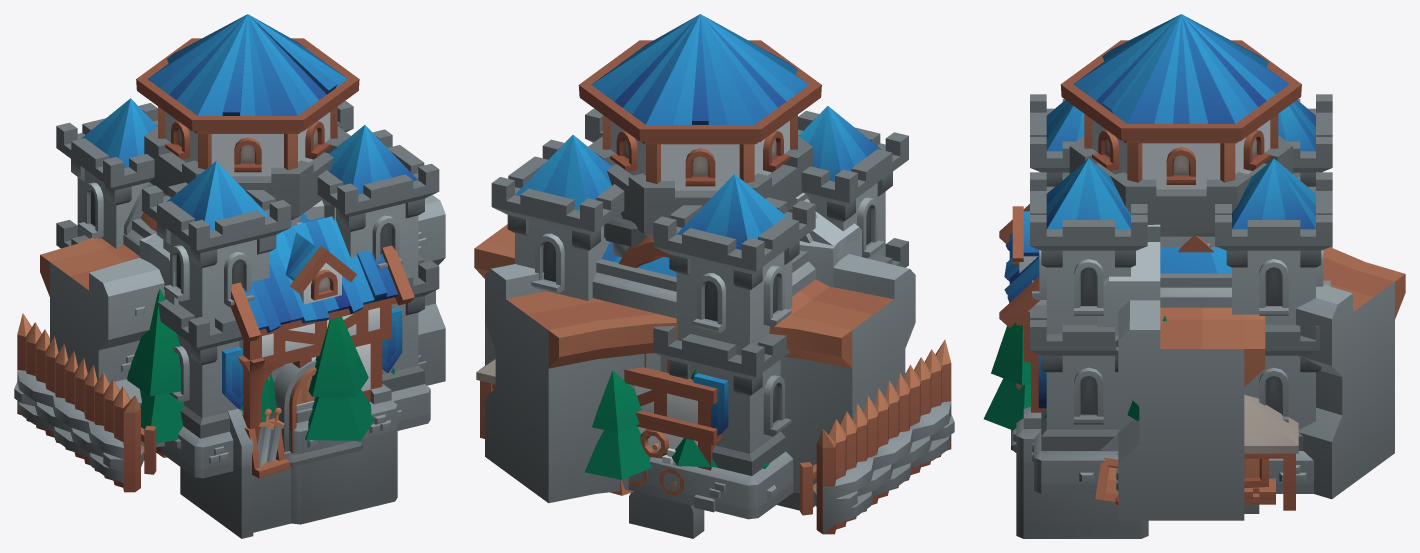
Rendered from town.glb.
3 renders of one model, left to right at view 1: azimuth 30°, elevation 25°; view 2: azimuth 150°, elevation 25°; view 3: azimuth 270°, elevation 25°, orthographic. The views are drawn at different scales.
Visible parts, largest first — view 1: building_barracks_blue, building_watermill_blue, building_tower_A_top_blue, trees_A_medium, wall_straight_gate, fence_wood_straight, wall_corner_A_outside, building_tower_A_blue, fence_stone_straight, wall_straight, building_market_blue, building_tavern_blue; view 2: building_barracks_blue, wall_corner_A_outside, building_tower_A_top_blue, fence_wood_straight, building_market_blue, fence_stone_straight, building_tower_A_blue, trees_A_medium, wall_straight, building_watermill_blue, wall_straight_gate, building_tavern_blue (+1 smaller); view 3: building_barracks_blue, building_tower_A_top_blue, wall_straight, wall_corner_A_outside, building_watermill_blue, wall_straight_gate, building_tower_A_blue, building_market_blue, trees_A_medium.
Part boxes in pixels (box(x1,y1,x2,y2)): building_barracks_blue: box(56, 98, 439, 478); building_watermill_blue: box(180, 216, 414, 538); building_tower_A_top_blue: box(136, 14, 359, 176); trees_A_medium: box(127, 288, 394, 457); wall_straight_gate: box(97, 199, 445, 446); fence_wood_straight: box(17, 313, 140, 492); wall_corner_A_outside: box(40, 233, 155, 380); building_tower_A_blue: box(144, 126, 350, 226); fence_stone_straight: box(14, 370, 143, 482); wall_straight: box(40, 195, 439, 371); building_market_blue: box(141, 425, 164, 474); building_tavern_blue: box(124, 182, 167, 235); building_barracks_blue: box(491, 106, 908, 519); wall_corner_A_outside: box(485, 241, 915, 503); building_tower_A_top_blue: box(578, 14, 821, 190); fence_wood_straight: box(816, 339, 951, 534); building_market_blue: box(476, 353, 816, 515); fence_stone_straight: box(813, 401, 954, 533); building_tower_A_blue: box(588, 136, 812, 237); trees_A_medium: box(585, 369, 769, 495); wall_straight: box(474, 224, 905, 337); building_watermill_blue: box(629, 491, 815, 538); wall_straight_gate: box(474, 193, 861, 419); building_tavern_blue: box(618, 199, 817, 495); building_barracks_blue: box(1011, 94, 1332, 493); building_tower_A_top_blue: box(1060, 14, 1301, 189); wall_straight: box(1097, 281, 1265, 520); wall_corner_A_outside: box(1296, 247, 1405, 499); building_watermill_blue: box(999, 204, 1259, 538); wall_straight_gate: box(1097, 224, 1265, 507); building_tower_A_blue: box(1069, 135, 1292, 247); building_market_blue: box(1095, 395, 1298, 510); trees_A_medium: box(983, 316, 1166, 430).
Bounding box in the file's own units: 2.1 × 2.54 × 2.01.
1 material, 1 textured.
